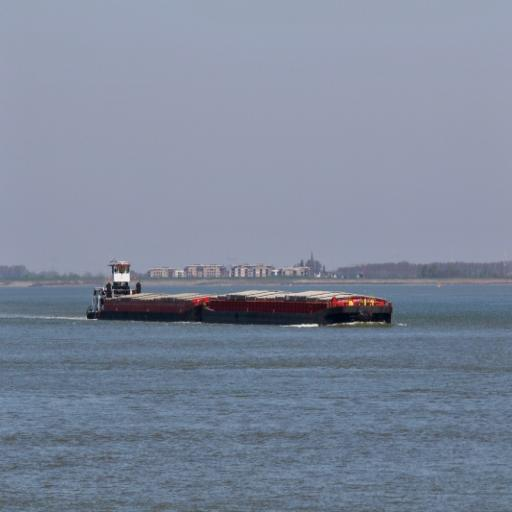tugboat: (85, 258, 147, 331)
